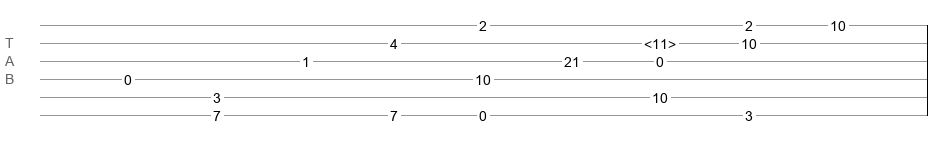0: (124, 72, 132, 82), (479, 108, 487, 118), (656, 54, 664, 64)
1: (302, 54, 310, 64)
10: (475, 72, 491, 82), (652, 90, 668, 100), (741, 36, 757, 46), (830, 18, 846, 28)
2: (479, 18, 487, 28), (745, 18, 753, 28)
21: (564, 54, 580, 64)
3: (213, 90, 221, 100), (745, 108, 753, 118)
4: (390, 36, 398, 46)
7: (213, 108, 221, 118), (390, 108, 398, 118)
harmonic: (644, 36, 676, 46)
